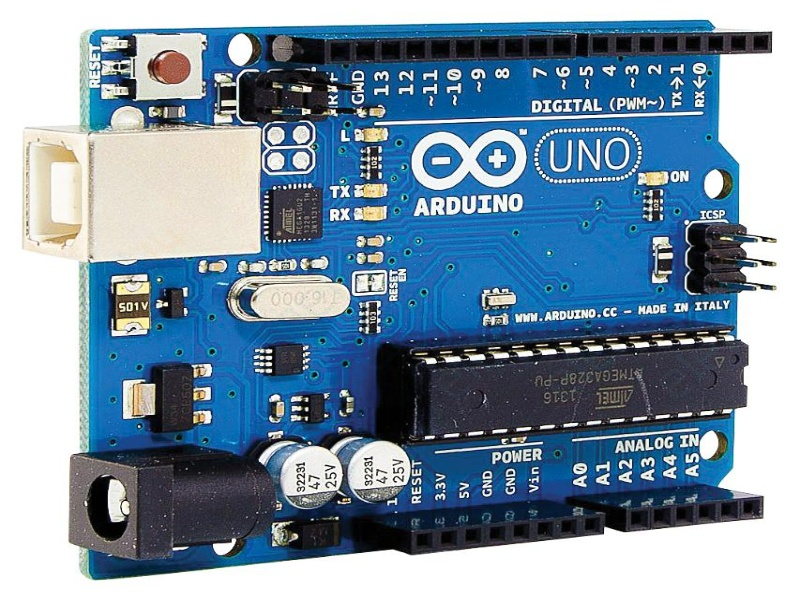uno: (22, 12, 787, 556)
